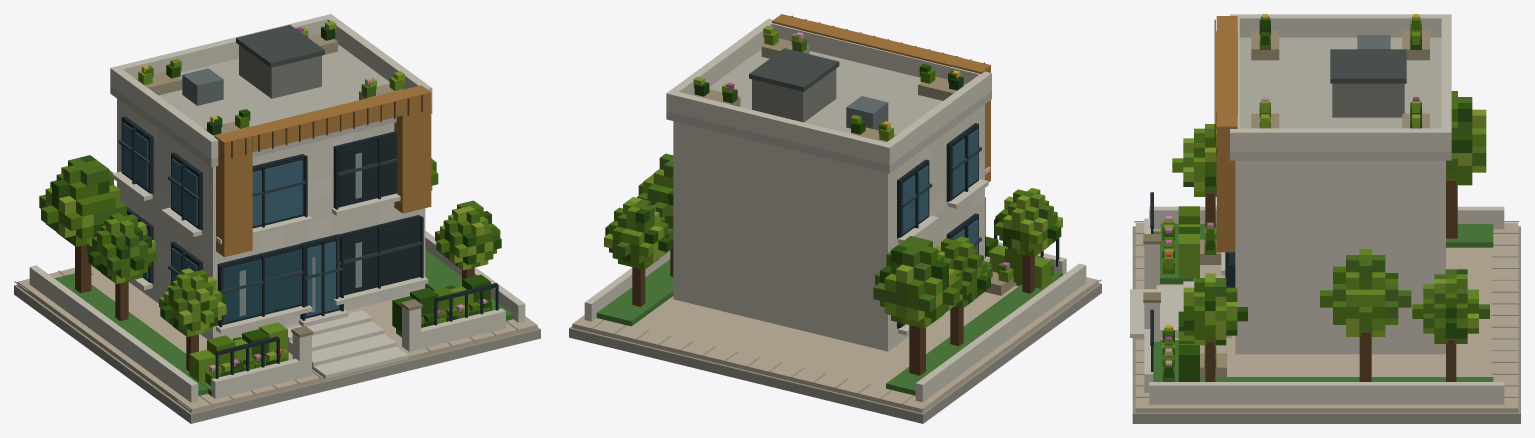
Rendered from SM_Mapa_015.fbx.
The picture shows the model from 3 angles, left to right: view 1: azimuth 30°, elevation 25°; view 2: azimuth 150°, elevation 25°; view 3: azimuth 270°, elevation 25°; orthographic projection. The views are drawn at different scales.
Visible parts, largest first — view 1: SM_Mapa_015; view 2: SM_Mapa_015; view 3: SM_Mapa_015.
Part boxes in pixels (x1,y1,x2,y2): SM_Mapa_015: [14, 14, 540, 423]; SM_Mapa_015: [569, 14, 1101, 423]; SM_Mapa_015: [1130, 14, 1520, 423].
Size of the model in its own units: 8 by 7.02 by 5.5.
